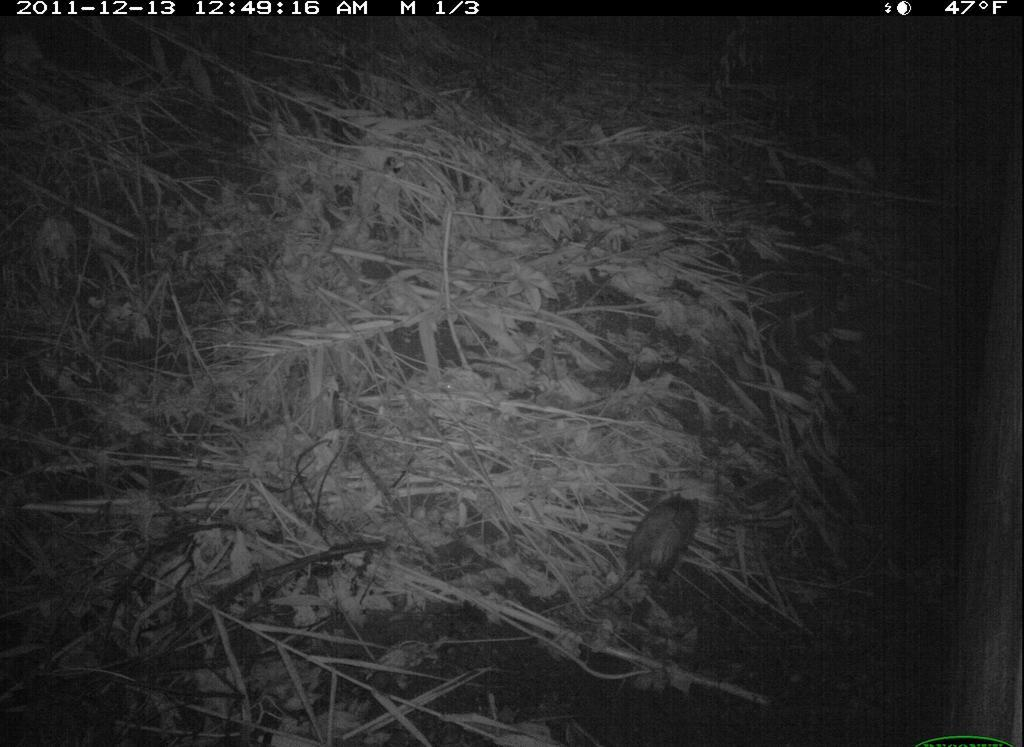opossum: (587, 486, 713, 621)
